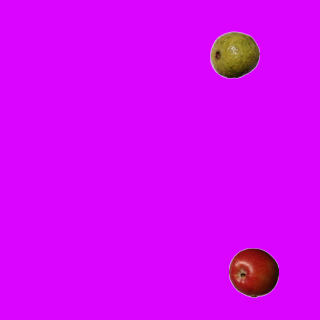Apple Braeburn: (228, 247, 278, 297)
Guava: (209, 29, 259, 79)
